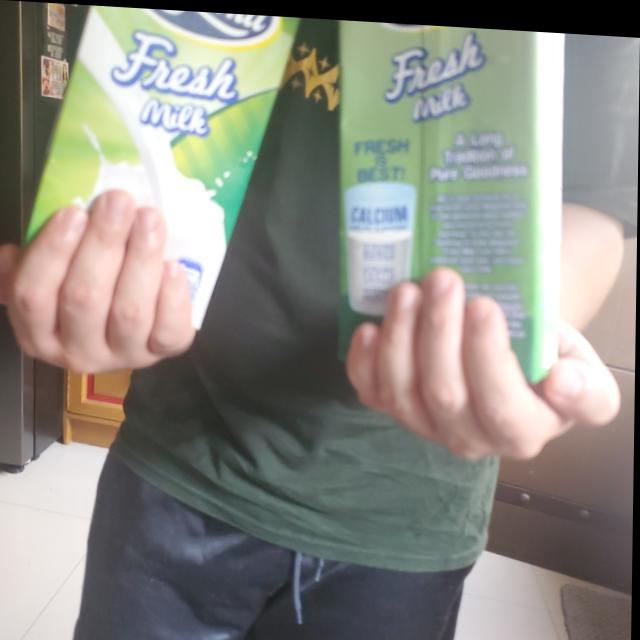milk: (10, 1, 302, 352), (334, 16, 562, 377)
